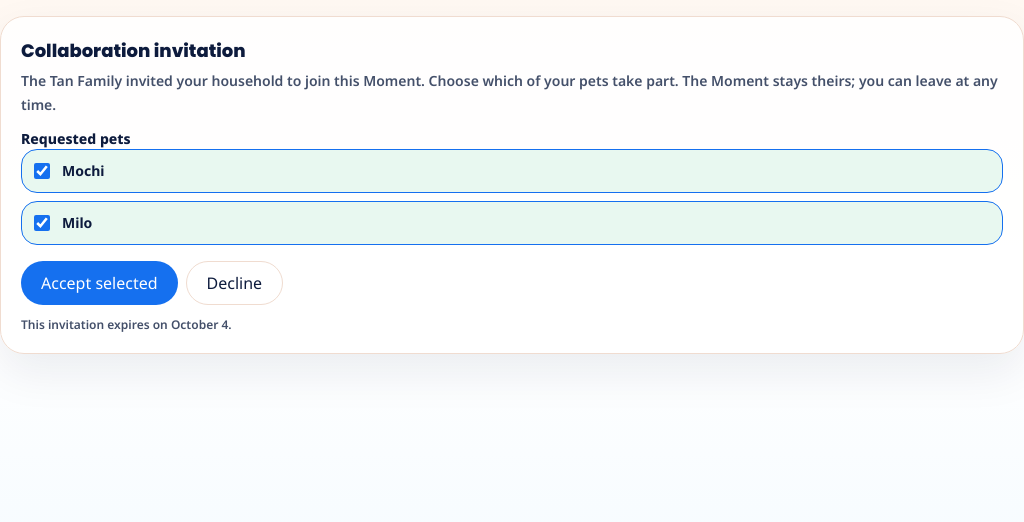
a household's collaboration invitation on the Moment › needs at least one pet to accept
Step 1. Click the checkbox labelled "Mochi" → {"x": 42, "y": 171}, box [34, 163, 50, 179]
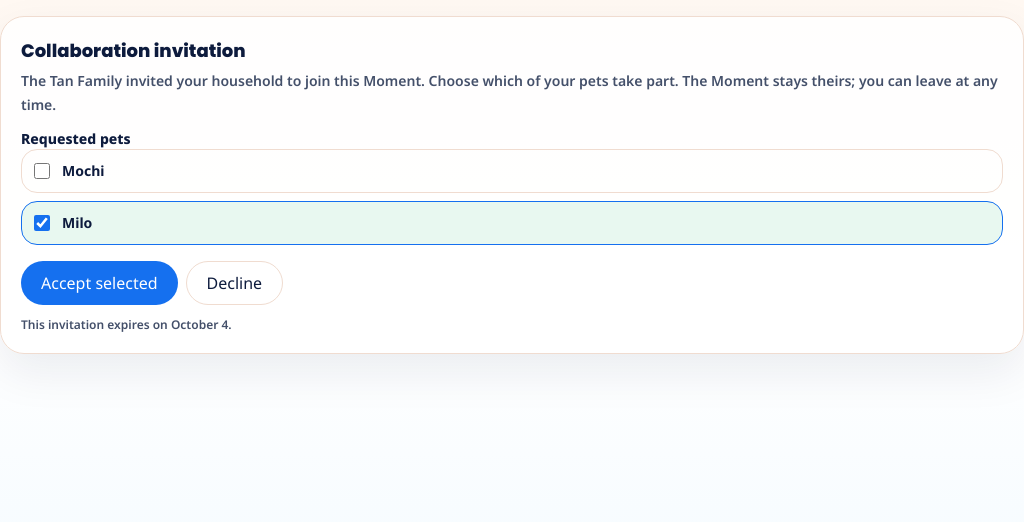
Step 2. Click the checkbox labelled "Milo" → {"x": 42, "y": 223}, box [34, 215, 50, 231]
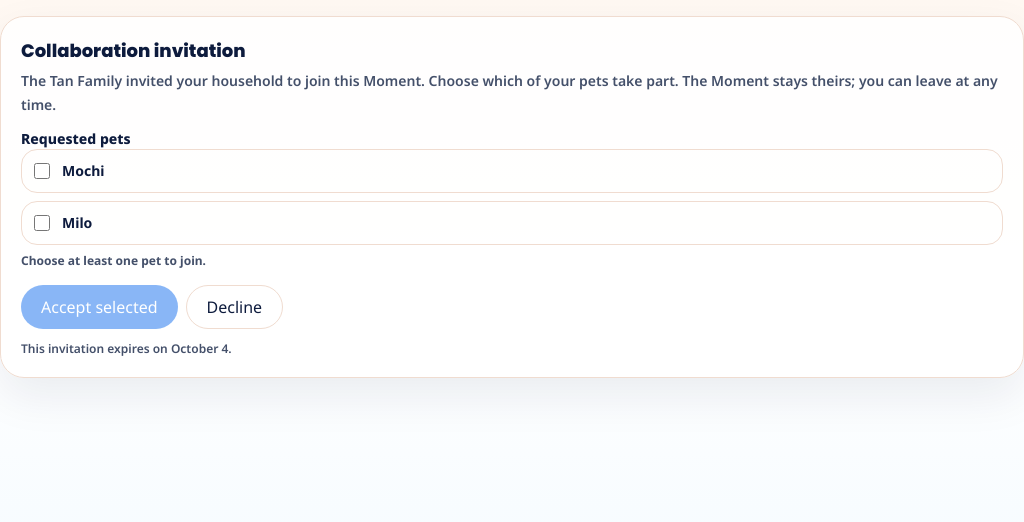
Check: the button "Accept selected" is disabled, box [21, 285, 178, 329]
Check: the text "Choose at least one pet to join." is shown, box [21, 252, 206, 269]
